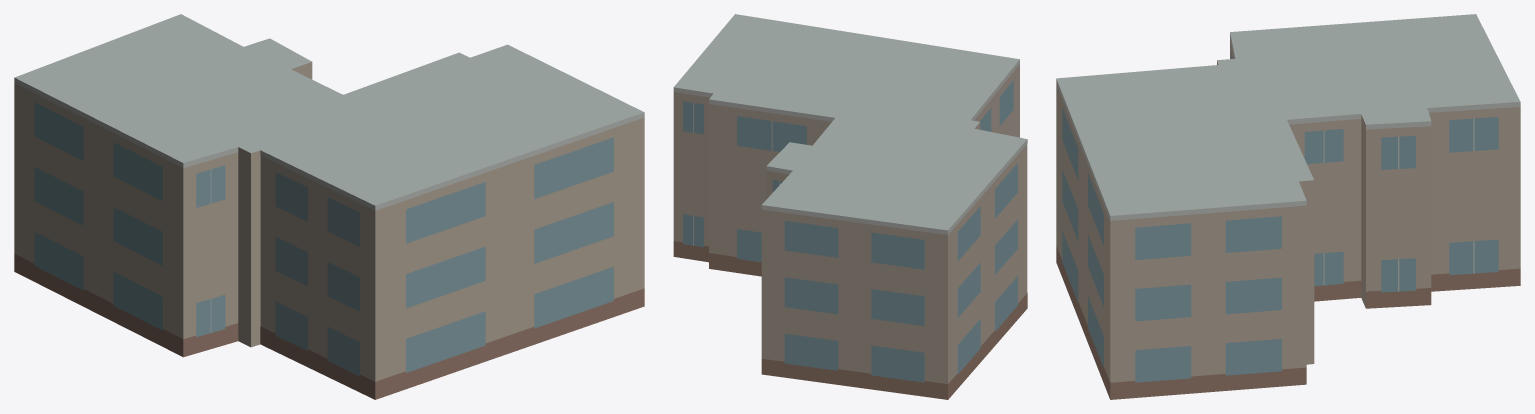
The model's file is survey-upis-32628124.glb.
3 views of the same model, side by side, from view 1: azimuth 30°, elevation 25°; view 2: azimuth 150°, elevation 25°; view 3: azimuth 270°, elevation 25° (orthographic). The views are drawn at different scales.
Parts seen in each view (by area): view 1: survey-upis-32628124.tmp; view 2: survey-upis-32628124.tmp; view 3: survey-upis-32628124.tmp.
Part boxes in pixels (x1,y1,x2,y2): survey-upis-32628124.tmp: (14,14,644,399); survey-upis-32628124.tmp: (673,14,1027,399); survey-upis-32628124.tmp: (1056,14,1520,399).
Bounding box in the file's own units: 21.57 × 9.15 × 20.95.
